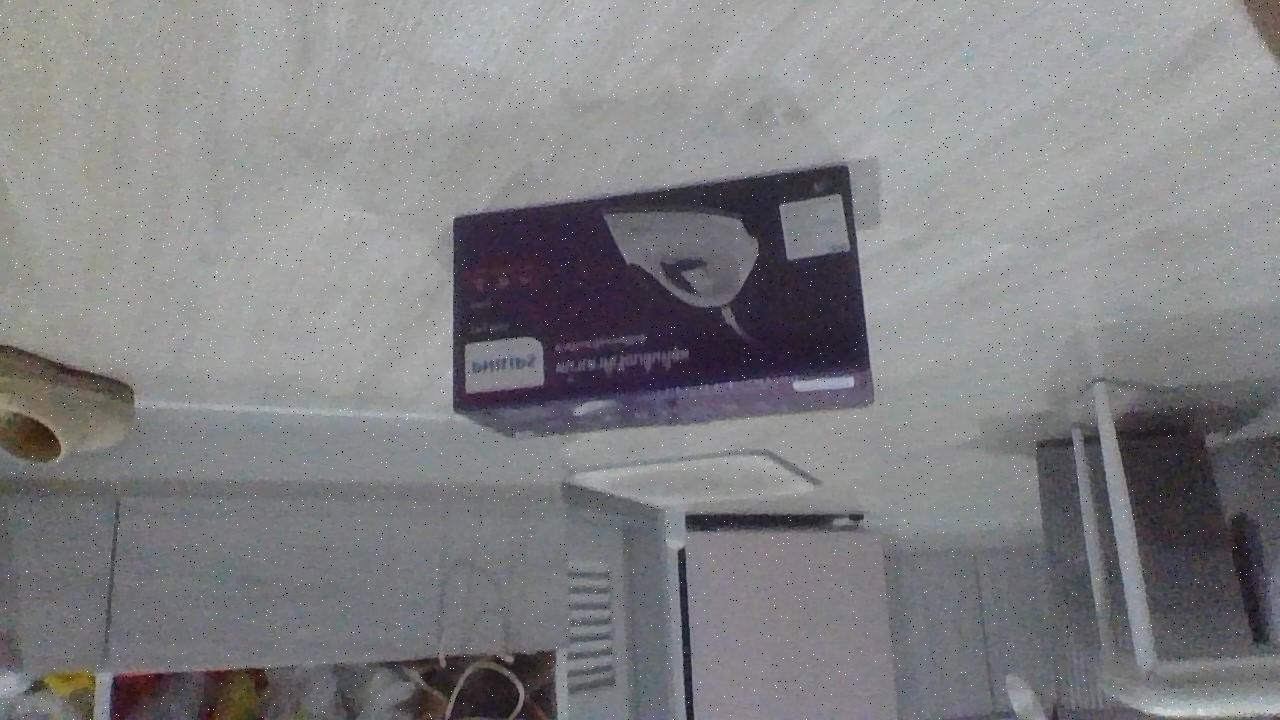IRON: (446, 160, 879, 445)
